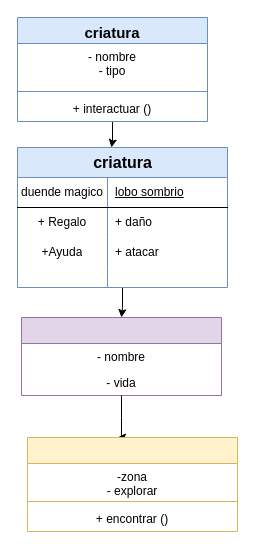
Some shapes in this 255 by 552 pixel diagram are drawn without their labels. The shapes that lost their labels are listed below. From the top down, each one's box as (x1, y1, x2, y2) in pixels, then its label:
(20, 316, 222, 396): jugador
(26, 436, 238, 532): bosque
